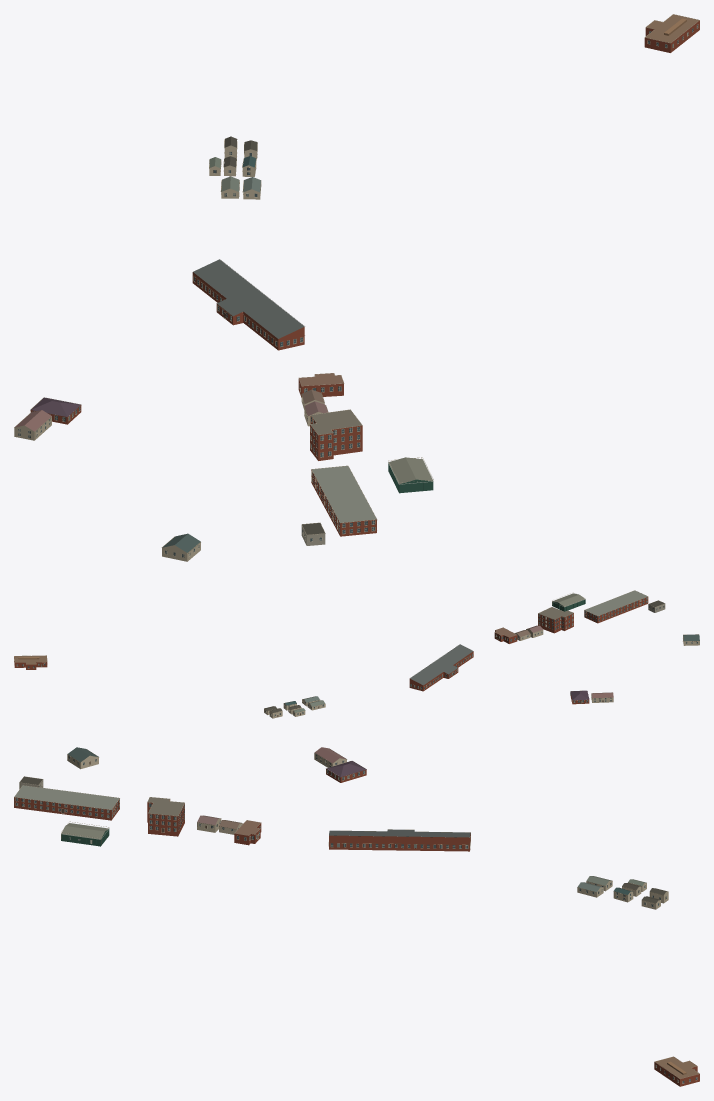
3 renders of one model, top to bottom at view 1: azimuth 30°, elevation 25°; view 2: azimuth 150°, elevation 25°; view 3: azimuth 270°, elevation 25°, orthographic. The views are drawn at different scales.
Parts seen in each view (by area): view 1: -3_1_272129189_0, -3_1_272129190_1; view 2: -3_1_272129189_0, -3_1_272129190_1; view 3: -3_1_272129189_0, -3_1_272129190_1.
Part boxes in pixels (x1=…): -3_1_272129189_0: x1=14, y1=14, x2=699, y2=561; -3_1_272129190_1: x1=30, y1=20, x2=699, y2=536; -3_1_272129189_0: x1=14, y1=590, x2=699, y2=718; -3_1_272129190_1: x1=14, y1=597, x2=648, y2=704; -3_1_272129189_0: x1=14, y1=747, x2=699, y2=1083; -3_1_272129190_1: x1=14, y1=769, x2=699, y2=1086.
Bounding box in the file's own units: 511 × 23.11 × 423.
